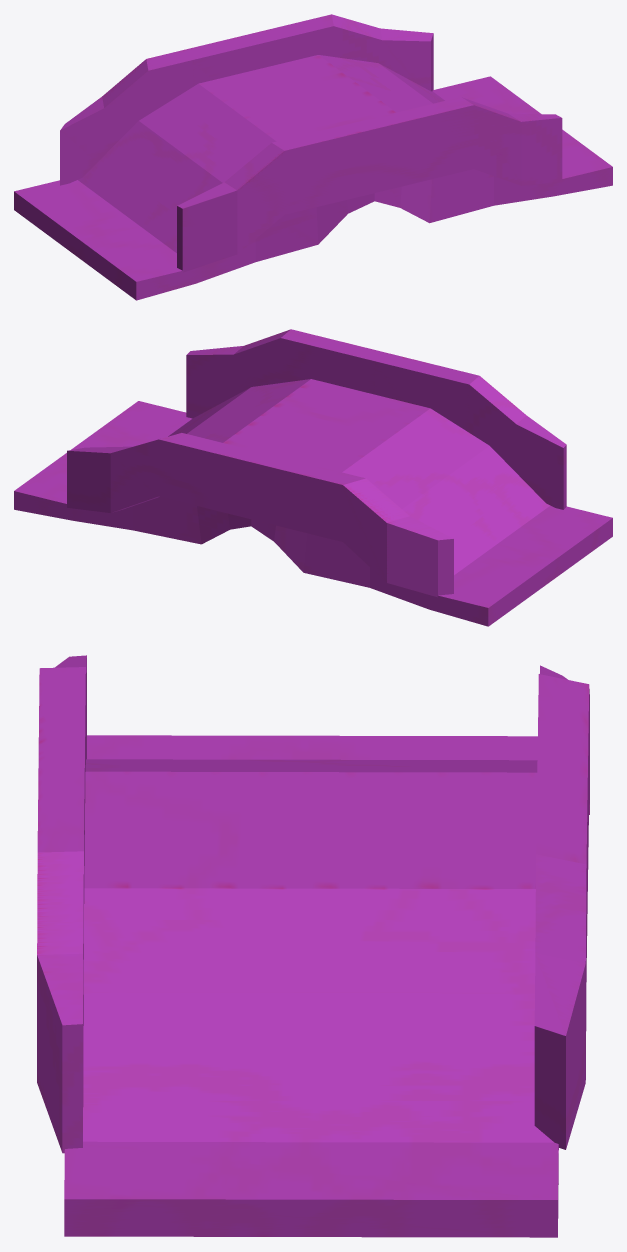
File: Road_Purple.fbx
3 renders of one model, top to bottom at view 1: azimuth 30°, elevation 25°; view 2: azimuth 150°, elevation 25°; view 3: azimuth 270°, elevation 25°, orthographic. The views are drawn at different scales.
Parts seen in each view (by area): view 1: node_id4; view 2: node_id4; view 3: node_id4.
Part boxes in pixels (x1=…): node_id4: x1=14, y1=14, x2=612, y2=300; node_id4: x1=14, y1=329, x2=612, y2=626; node_id4: x1=37, y1=655, x2=589, y2=1237.
Size of the model in its own units: 0.5119 by 0.1242 by 0.2572.
Materials: 1 (1 with a texture image).
